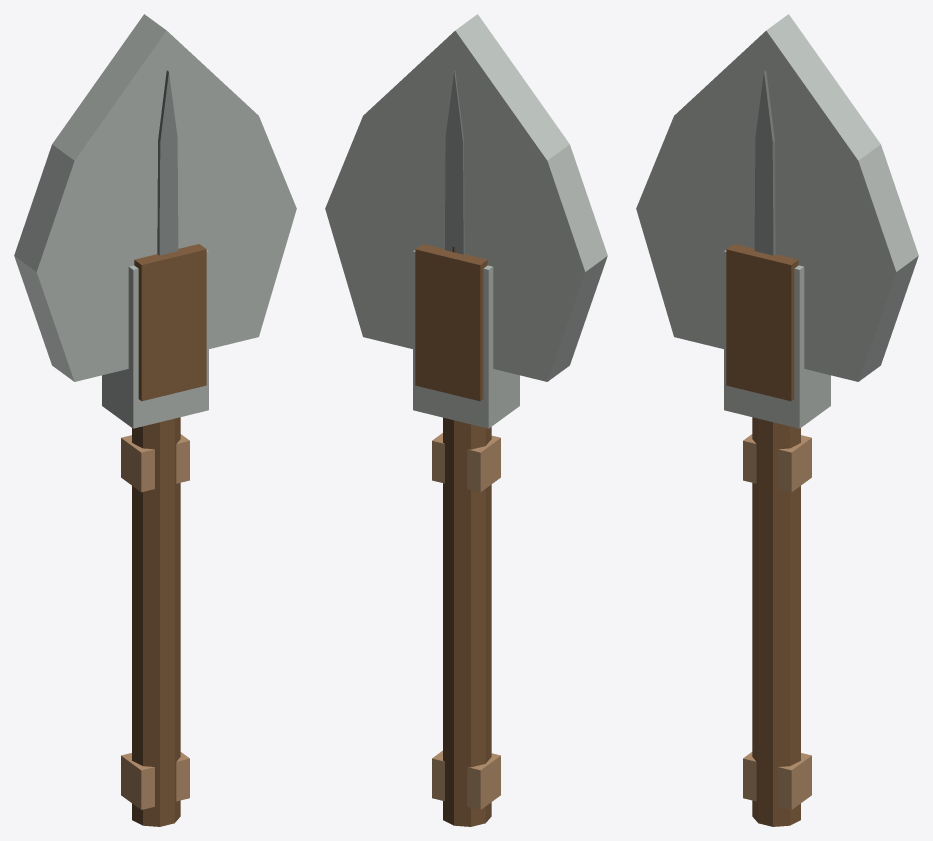
Rendered from stoneShovel.glb.
The picture shows the model from 3 angles, left to right: view 1: azimuth 30°, elevation 25°; view 2: azimuth 150°, elevation 25°; view 3: azimuth 330°, elevation 25°; orthographic projection.
Parts seen in each view (by area): view 1: ShovelBlade, Handle, ToolHeadSocket, ShovelSocket, ShovelRidge, GripWrapHigh, GripWrapLow; view 2: ShovelBlade, Handle, ToolHeadSocket, ShovelSocket, ShovelRidge, GripWrapHigh, GripWrapLow; view 3: ShovelBlade, Handle, ToolHeadSocket, ShovelSocket, ShovelRidge, GripWrapHigh, GripWrapLow.
Boxes of the visible parts, box(x1,y1,x2,y2) form: ShovelBlade: box(14, 14, 296, 381); Handle: box(132, 417, 180, 826); ToolHeadSocket: box(134, 244, 206, 401); ShovelSocket: box(102, 250, 208, 428); ShovelRidge: box(157, 70, 178, 255); GripWrapHigh: box(121, 434, 189, 492); GripWrapLow: box(121, 752, 189, 809); ShovelBlade: box(325, 14, 607, 381); Handle: box(443, 246, 491, 826); ToolHeadSocket: box(415, 244, 487, 401); ShovelSocket: box(413, 250, 519, 428); ShovelRidge: box(445, 70, 464, 254); GripWrapHigh: box(432, 433, 500, 492); GripWrapLow: box(432, 750, 500, 809); ShovelBlade: box(636, 14, 918, 381); Handle: box(752, 417, 800, 826); ToolHeadSocket: box(726, 244, 798, 401); ShovelSocket: box(724, 250, 830, 428); ShovelRidge: box(754, 70, 775, 255); GripWrapHigh: box(743, 434, 811, 492); GripWrapLow: box(743, 752, 811, 809).
Bounding box in the file's own units: 0.48 × 1.4 × 0.12.
